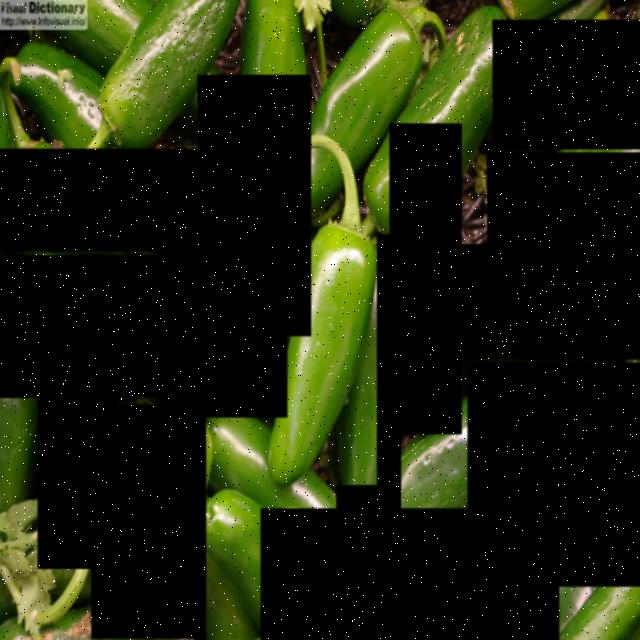Chili_Pepper: (261, 508, 559, 640), (468, 363, 640, 587), (269, 135, 377, 485), (0, 255, 238, 398), (156, 185, 288, 418), (91, 405, 206, 639), (220, 75, 311, 336), (389, 123, 462, 434), (456, 244, 640, 360), (0, 149, 206, 251), (492, 20, 640, 149), (487, 153, 640, 276), (336, 235, 401, 516), (38, 364, 118, 569), (198, 75, 219, 94)
